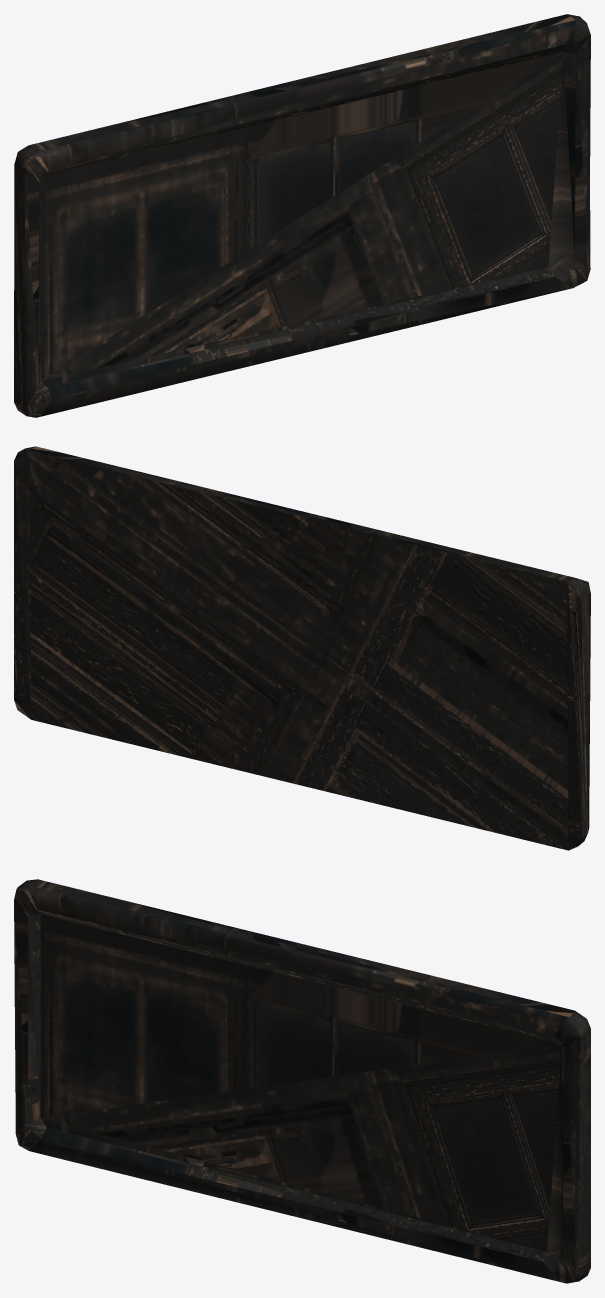
File: level3 sign.fbx
3 views of the same model, one above another, from view 1: azimuth 30°, elevation 25°; view 2: azimuth 150°, elevation 25°; view 3: azimuth 330°, elevation 25° (orthographic).
Visible parts, largest first — view 1: level3 sign; view 2: level3 sign; view 3: level3 sign.
Boxes of the visible parts, left/top/right/bottom form: level3 sign: left=14, top=14, right=590, bottom=417; level3 sign: left=14, top=446, right=590, bottom=850; level3 sign: left=14, top=879, right=590, bottom=1283.
Bounding box in the file's own units: 745 × 337 × 24.18.
